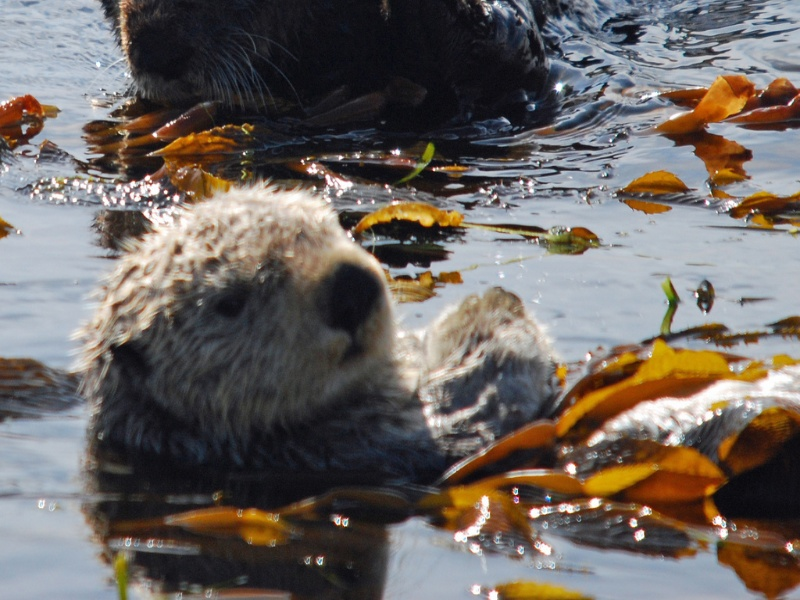minkish: (73, 176, 576, 506)
